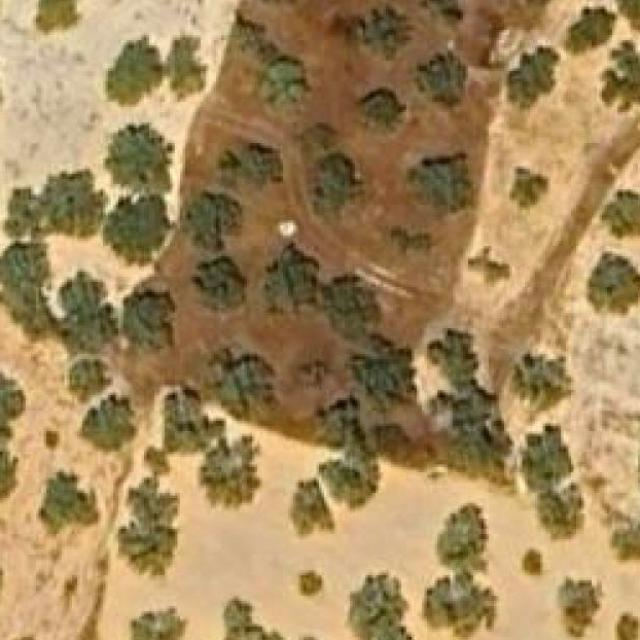Tree: (314, 395, 384, 498), (5, 168, 106, 238), (432, 395, 513, 481), (0, 238, 59, 333), (116, 477, 173, 570), (55, 272, 119, 354), (353, 336, 415, 412), (105, 35, 165, 110), (108, 128, 175, 192), (36, 472, 101, 537), (106, 198, 168, 264), (196, 442, 257, 508), (327, 274, 382, 342), (427, 575, 489, 635), (193, 254, 252, 316), (221, 354, 273, 421), (507, 48, 559, 114), (427, 323, 482, 385), (586, 254, 640, 316), (456, 7, 507, 72), (556, 575, 605, 640), (82, 395, 137, 452), (509, 357, 566, 412), (183, 192, 240, 247), (123, 294, 175, 354), (350, 578, 399, 640), (415, 156, 471, 208), (415, 54, 466, 110), (537, 488, 587, 542), (437, 508, 484, 565), (234, 12, 281, 69), (168, 37, 212, 97), (226, 593, 282, 640), (559, 9, 615, 54), (266, 259, 310, 316), (523, 426, 567, 483), (602, 43, 640, 108), (292, 481, 336, 535), (266, 59, 310, 113), (314, 156, 355, 213), (231, 143, 281, 182), (67, 359, 111, 403), (358, 12, 399, 59), (129, 608, 188, 640), (602, 192, 640, 239), (509, 167, 548, 211), (36, 0, 77, 32), (366, 90, 402, 124), (294, 357, 329, 388), (299, 570, 324, 604), (614, 611, 640, 640), (619, 0, 640, 32), (523, 548, 543, 578), (44, 429, 60, 453)
